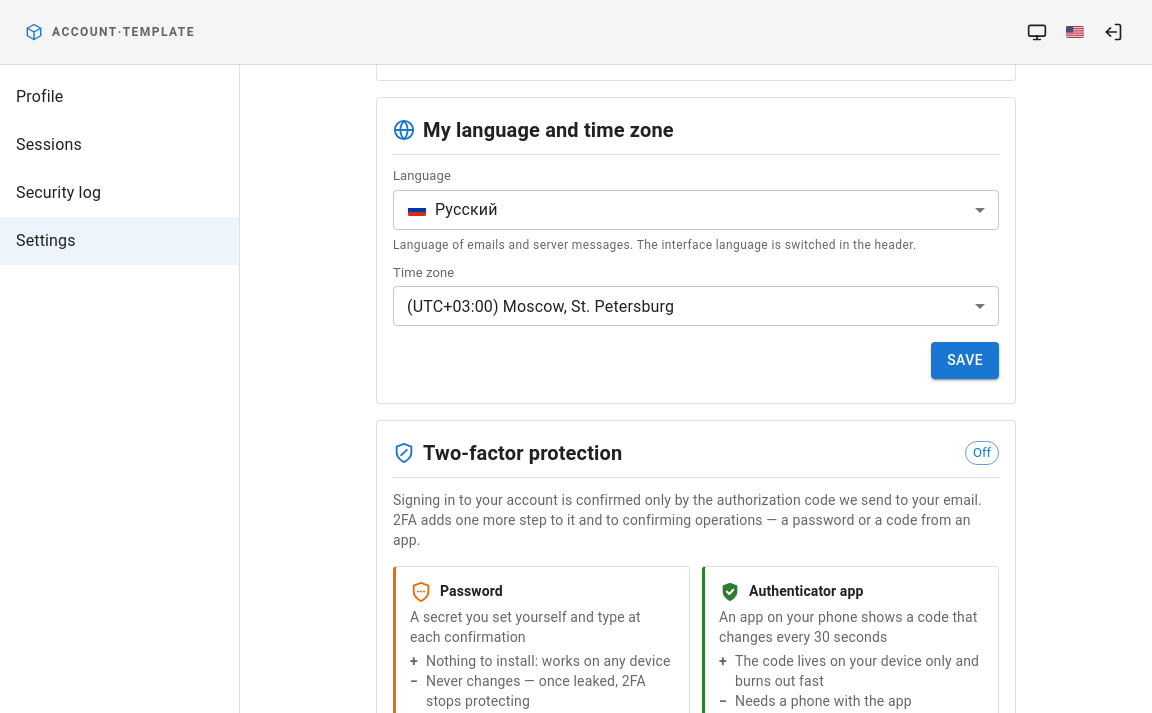
Test: SettingsPage › the note about the apply window appears after saving and not before
(page scrolled)
Click the button "Save" at coordinates (965, 360), box [931,342,999,379]
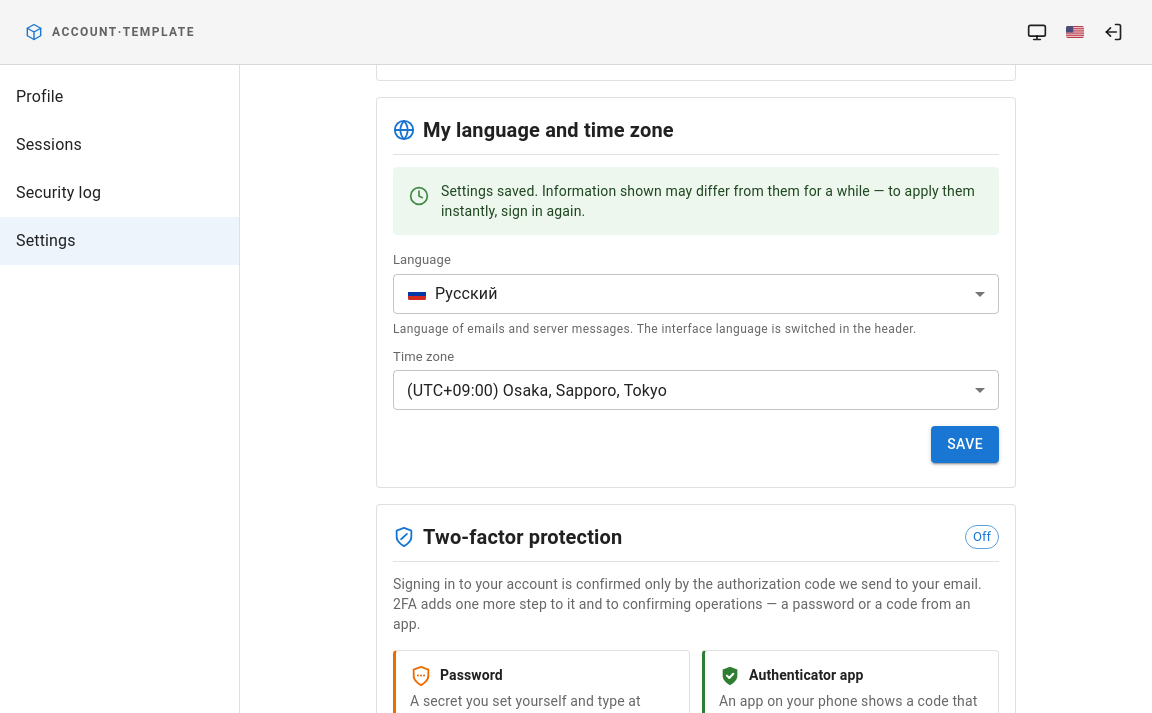
Expected: the message with test id "settings-saved" is shown, [393,167,999,235]
